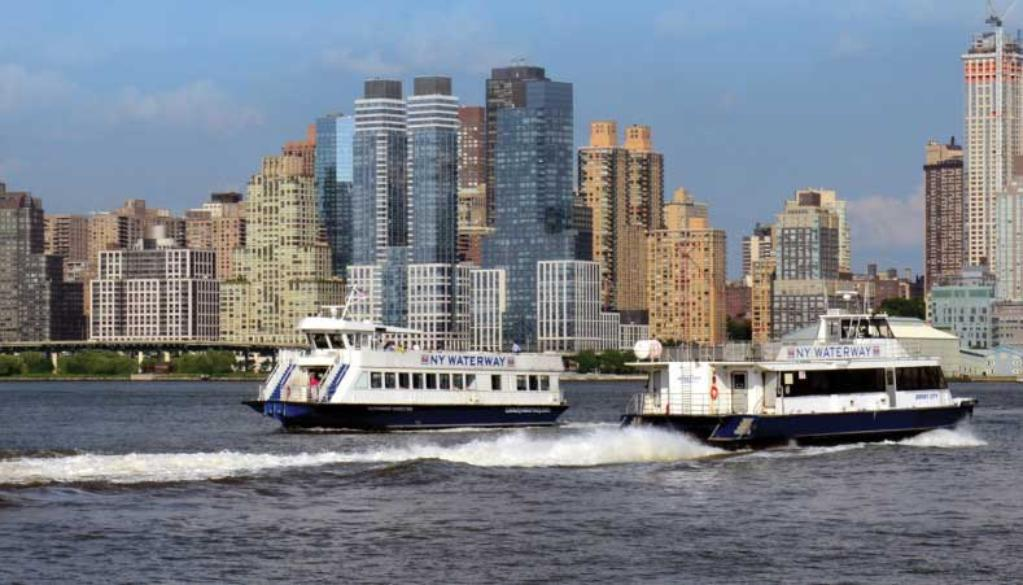PassengerShip: (620, 291, 980, 451), (237, 294, 571, 436)
